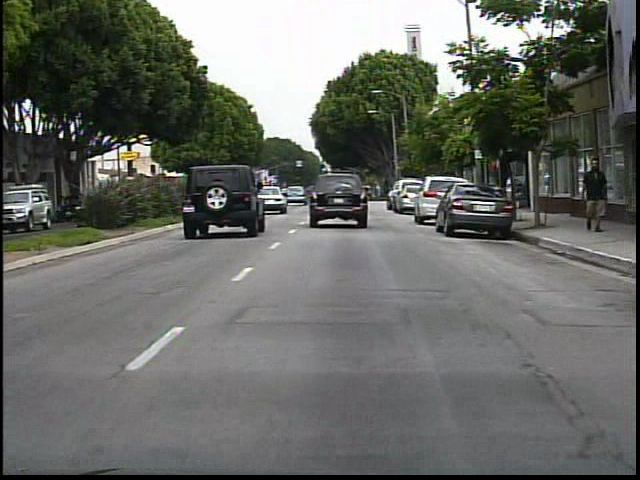person: (574, 155, 613, 239), (500, 164, 523, 218)
